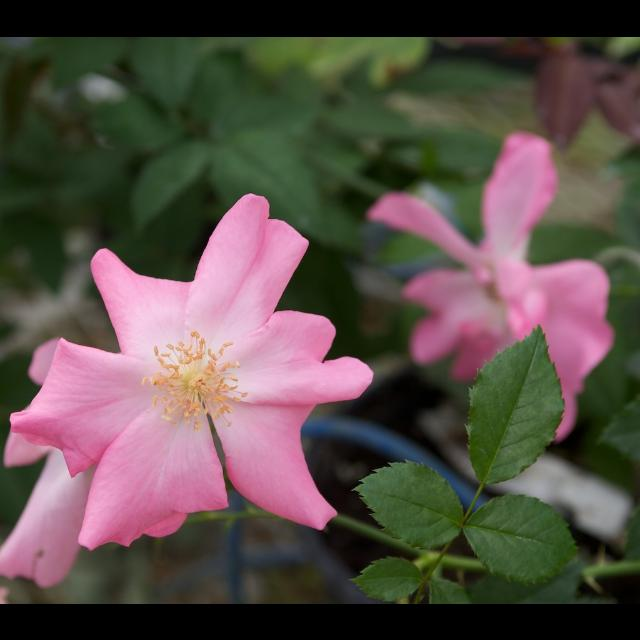Flower: (45, 172, 405, 570), (371, 128, 611, 440), (0, 337, 186, 585)
